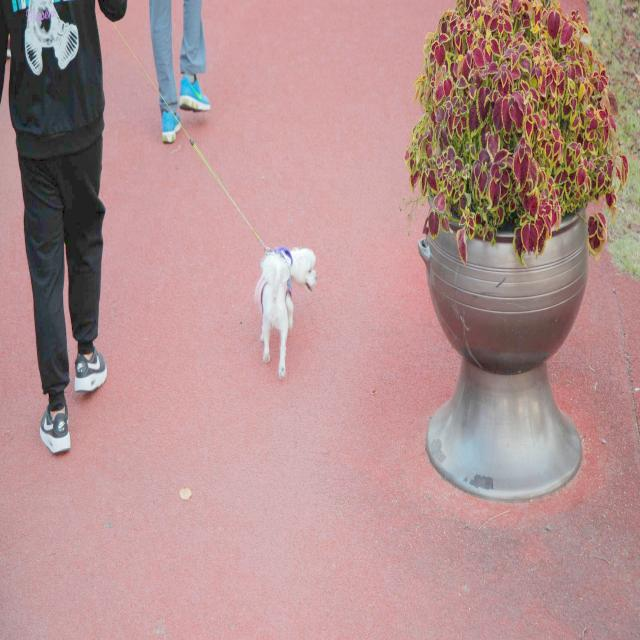Leashed_Dog: (40, 21, 318, 382)
